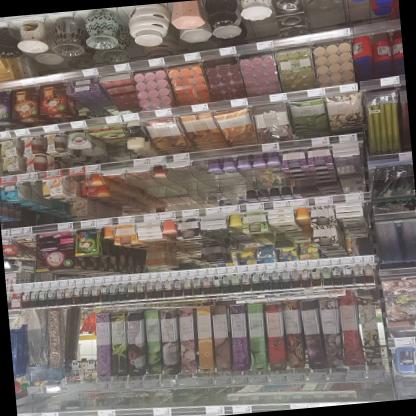empty_space: (104, 158, 163, 217), (164, 151, 219, 211)
